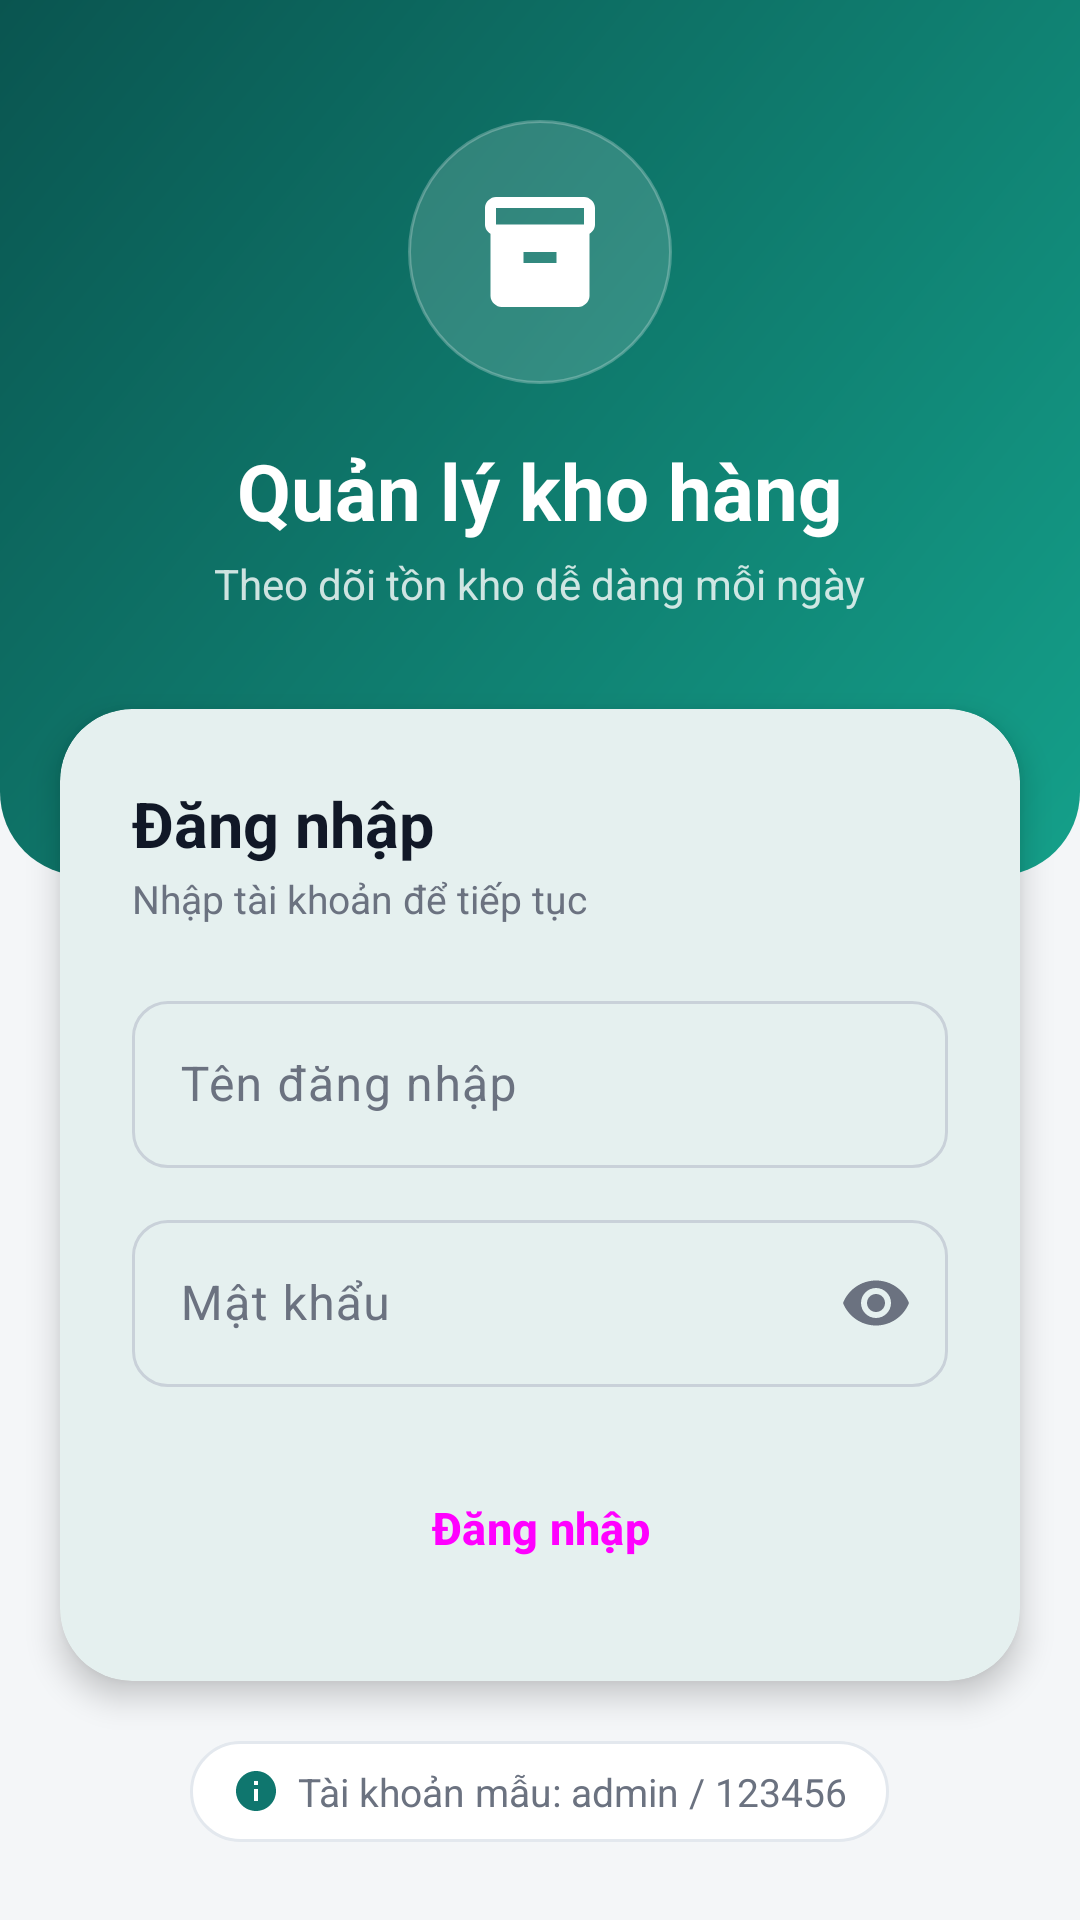

Where icons sit on this 1080 × 1920 app screen, as bbox(x1, y1, x2, y2):
inventory: bbox(485, 197, 595, 307)
